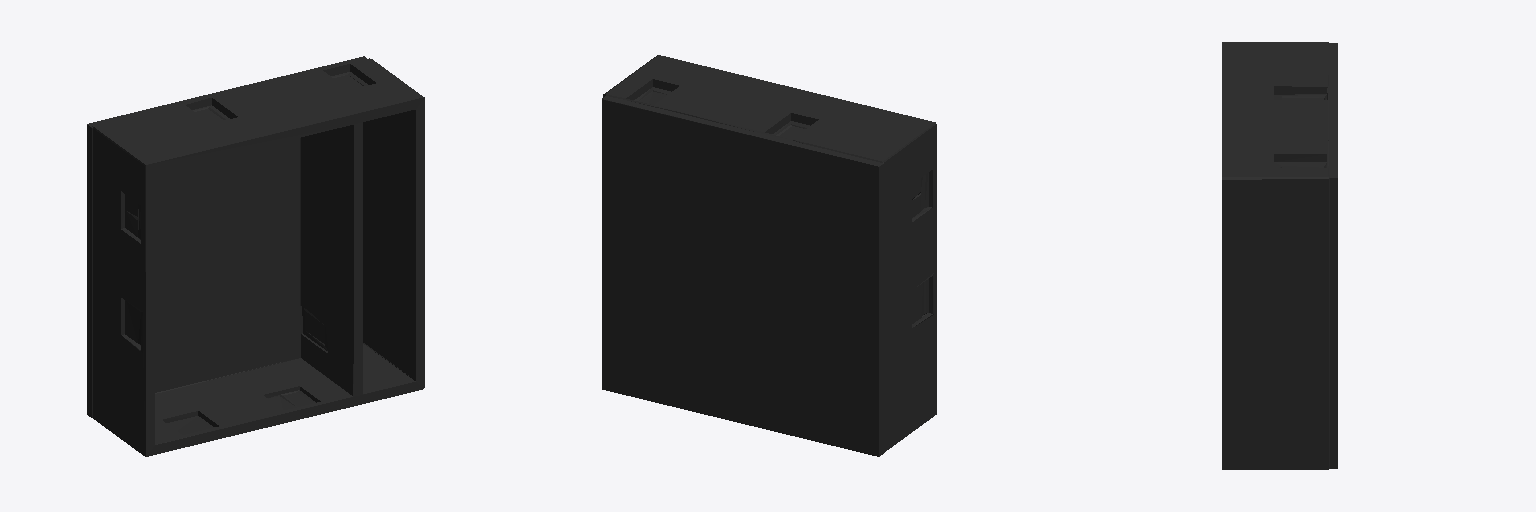
The model's file is shop.obj.
3 renders of one model, left to right at view 1: azimuth 30°, elevation 25°; view 2: azimuth 150°, elevation 25°; view 3: azimuth 270°, elevation 25°, orthographic.
Visible parts, largest first — view 1: SM_SM_ShopRoom; view 2: SM_SM_ShopRoom; view 3: SM_SM_ShopRoom.
Part boxes in pixels (x1,y1,x2,y2): SM_SM_ShopRoom: (87, 56, 424, 456); SM_SM_ShopRoom: (602, 55, 936, 456); SM_SM_ShopRoom: (1222, 42, 1337, 469).
Bounding box in the file's own units: 15.17 × 15.1 × 5.46.